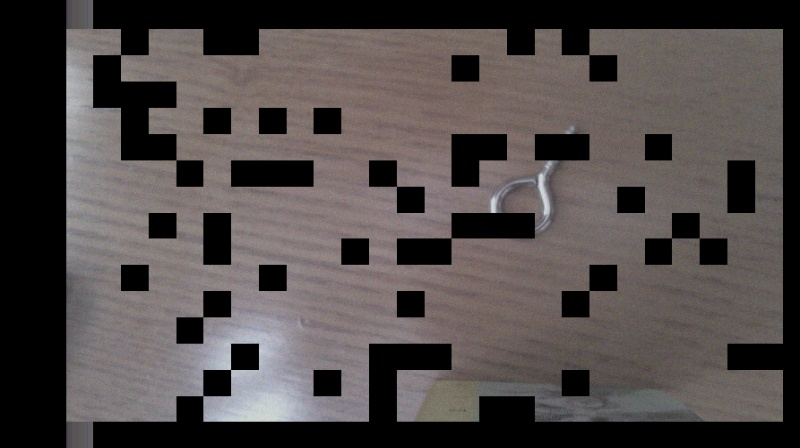O001: (486, 122, 581, 243)
